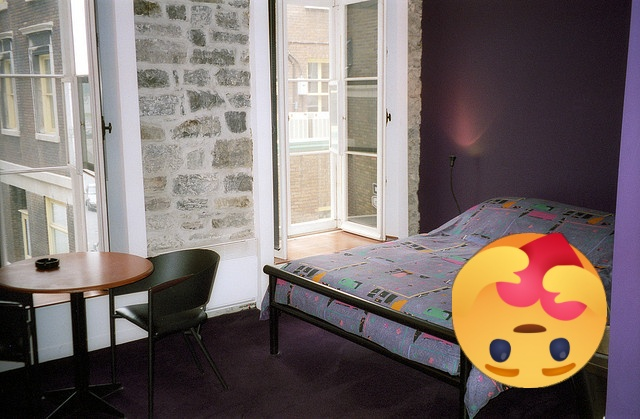care: (452, 233, 607, 388)
